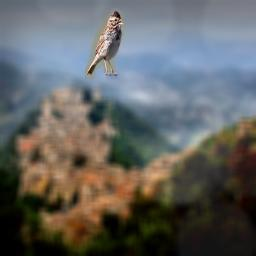Sparrow: (85, 8, 125, 79)
